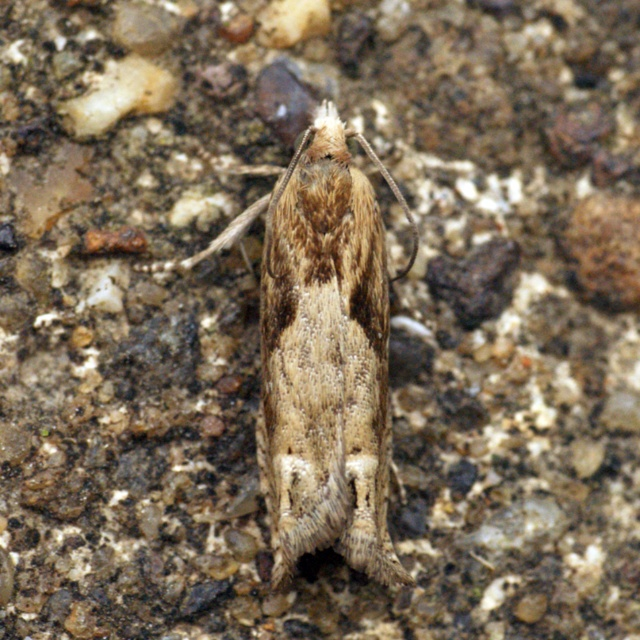Moths and butterflies: (128, 95, 420, 599)
